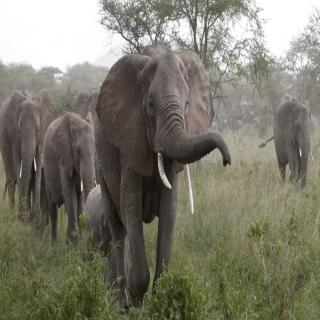Elephant: (95, 36, 236, 308), (41, 109, 98, 249), (0, 88, 59, 221), (259, 92, 316, 186)
